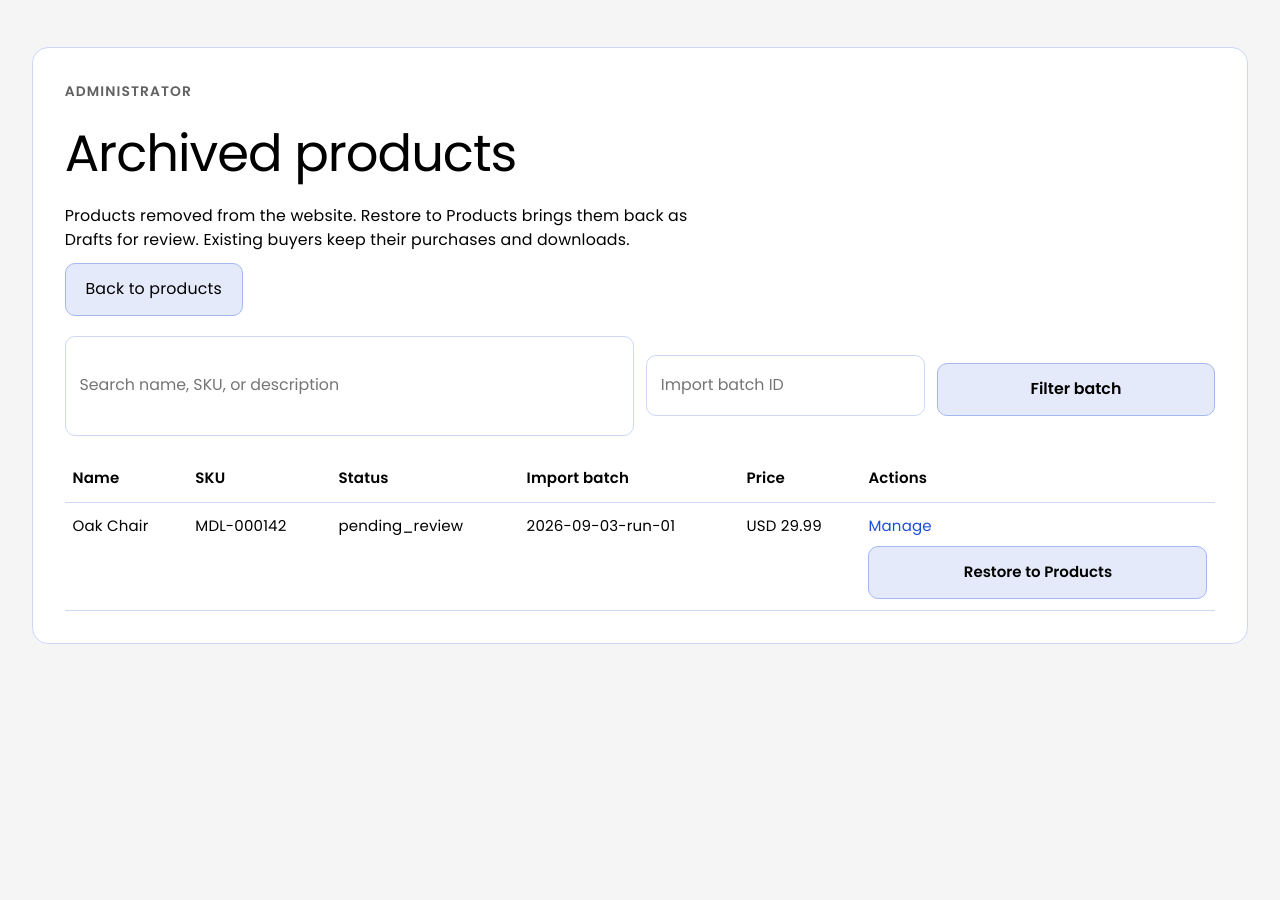
Test: AdminProductsPage › reports a failed restore without removing the archived row
Click the button "Restore to Products": (1038, 572) [868,546,1207,598]
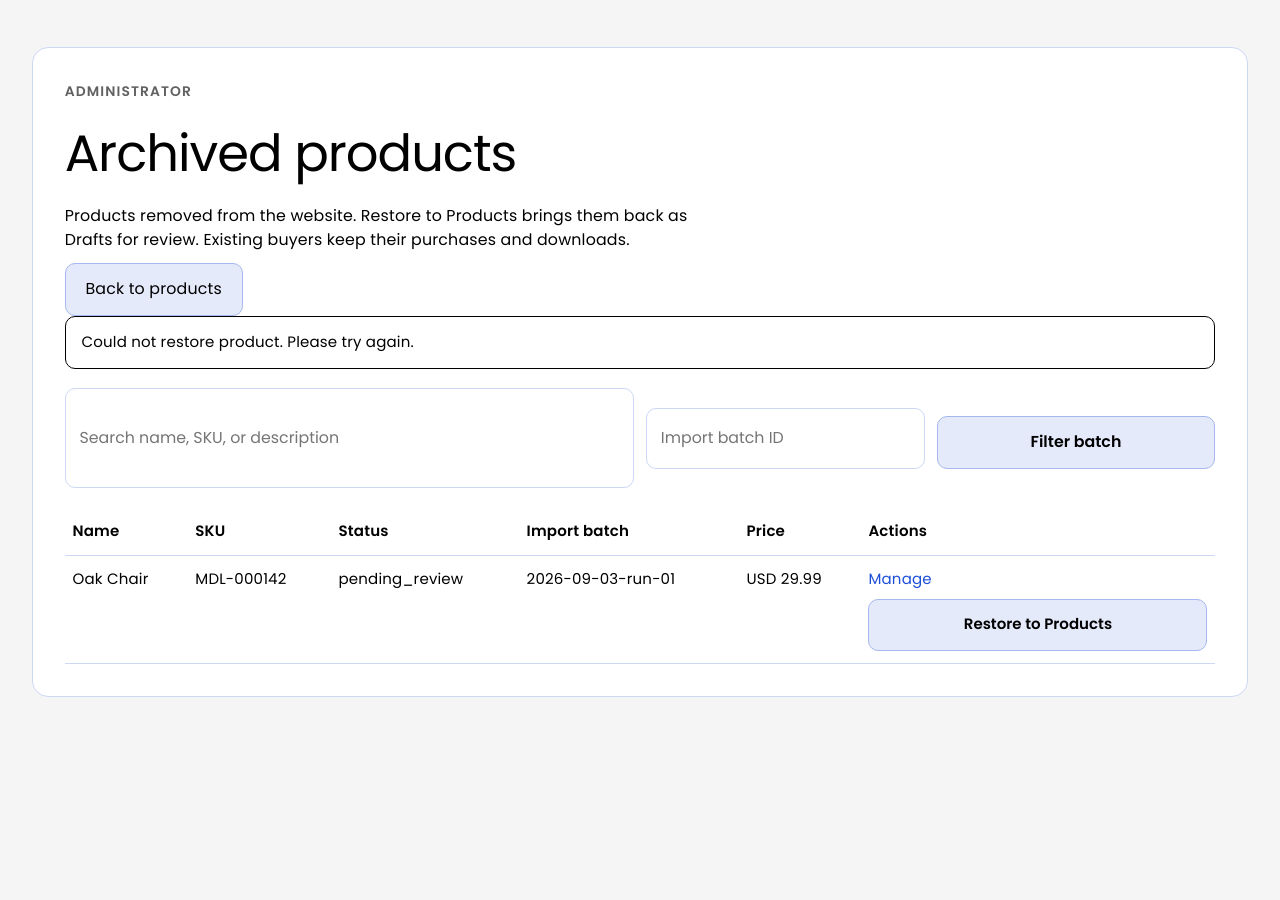
Expected: the text "Oak Chair" is shown, [65,555,187,664]
Now the message reads "Could not restore product. Please try again.", box [82,331,414,352]
